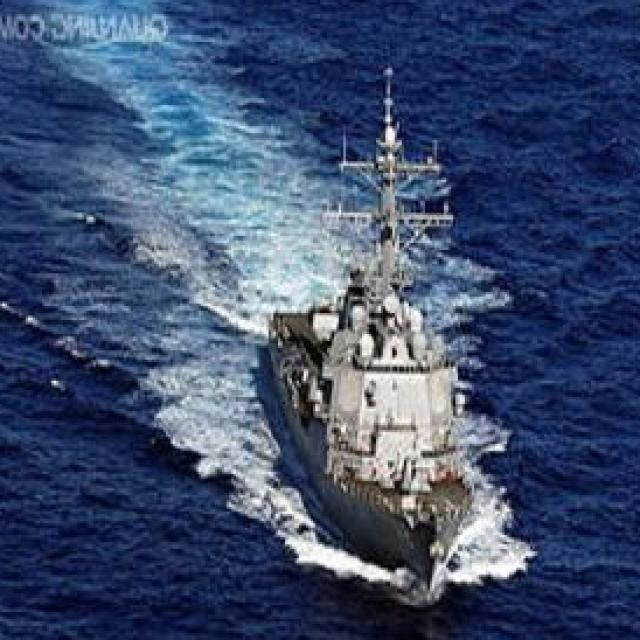navalvessels: (270, 72, 486, 590)
